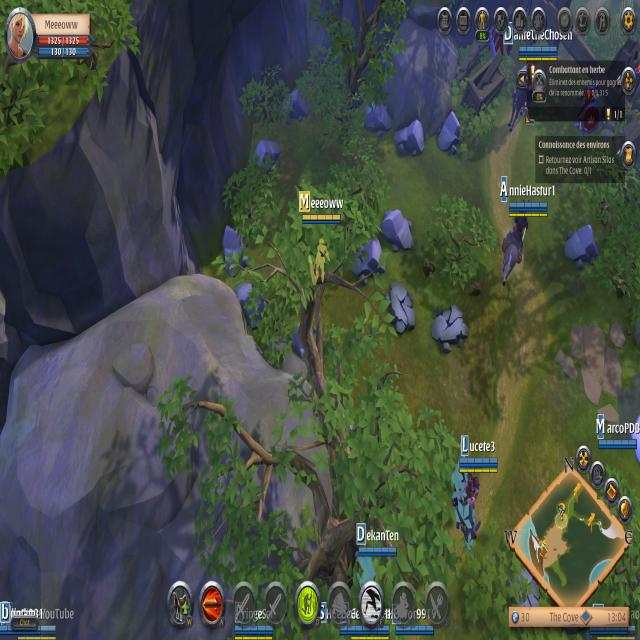broken stone: (384, 274, 418, 339), (430, 302, 472, 354)
stone: (562, 220, 600, 271), (380, 202, 414, 256), (349, 234, 385, 284), (218, 221, 250, 275), (233, 277, 265, 326), (250, 136, 285, 178), (435, 107, 463, 156), (394, 118, 426, 158), (281, 79, 309, 122), (365, 93, 392, 137)
